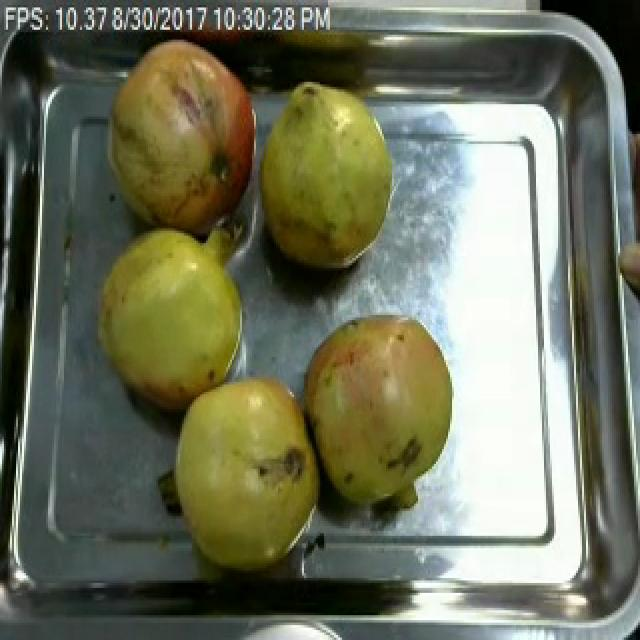fruit: (94, 29, 270, 246), (290, 303, 464, 521), (156, 362, 328, 578), (86, 216, 256, 424), (254, 74, 404, 278)
